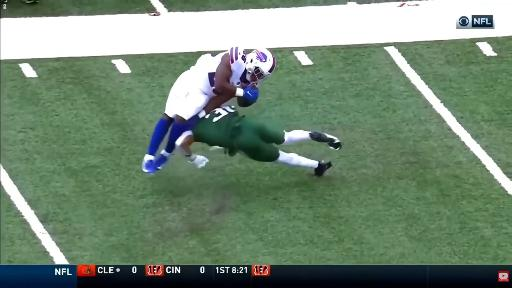Helmet: (246, 49, 275, 85)
Jersey: (195, 47, 248, 97), (192, 106, 242, 147)
Player: (142, 47, 275, 173), (176, 106, 341, 176)
